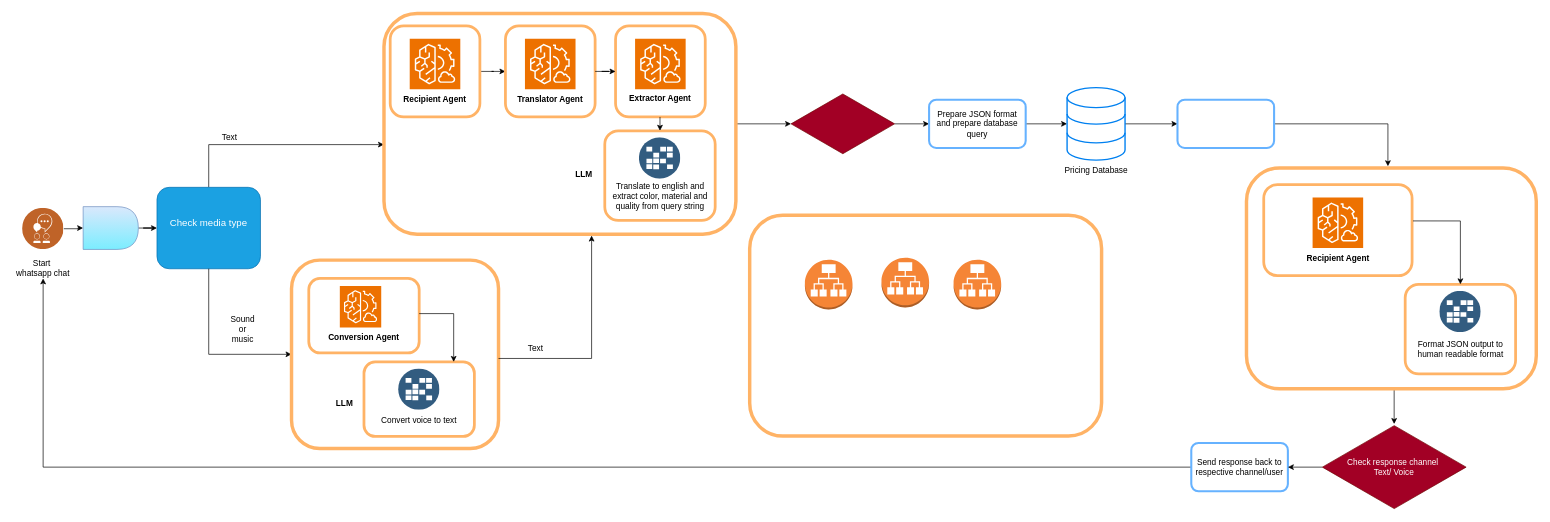
The diagram is 1550 pixels wide and 522 high, and some of its shapes have lost their labels. Each missing label, with the centre of its shape:
"Fetch respective data from database" goes at [1225,123].
"Validate" goes at [842,123].
"Webhook" goes at [110,227].
